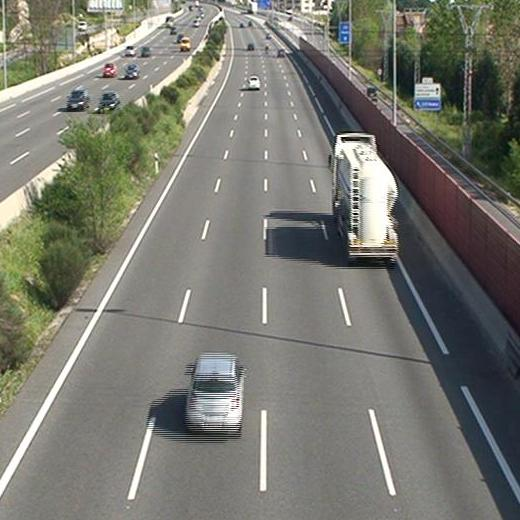car: (185, 354, 243, 430), (247, 77, 259, 89)
tank-truck: (331, 135, 400, 266)
